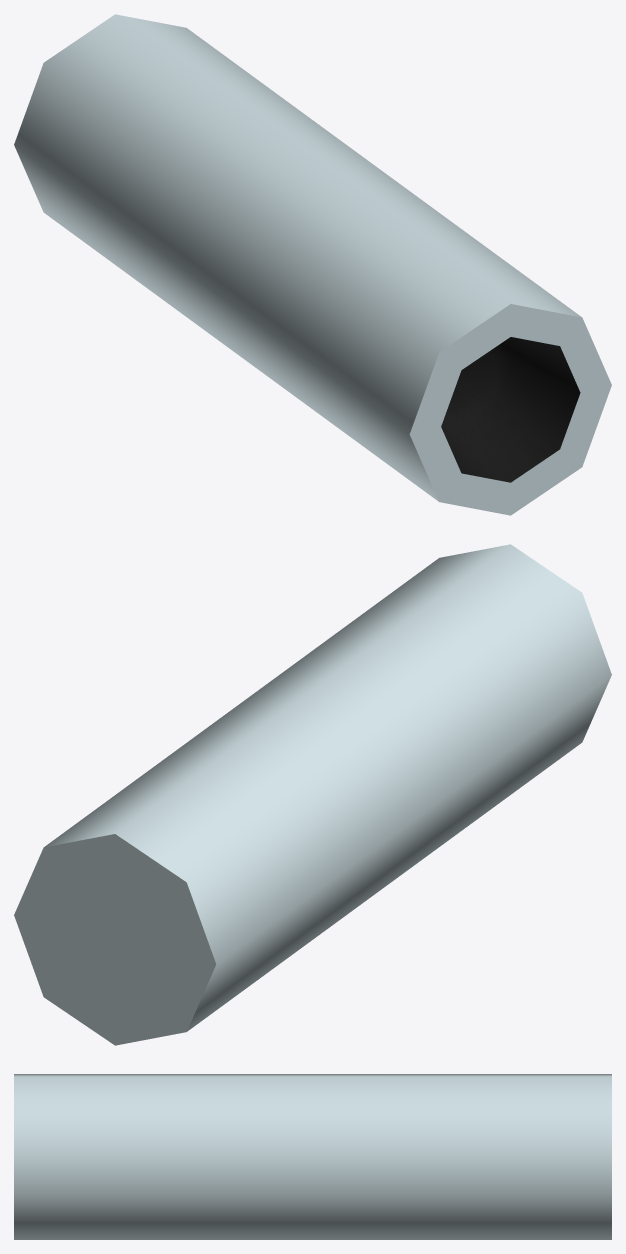
Rendered from YK_Rifle_Barrel.obj.
3 renders of one model, top to bottom at view 1: azimuth 30°, elevation 25°; view 2: azimuth 150°, elevation 25°; view 3: azimuth 270°, elevation 25°, orthographic. The views are drawn at different scales.
Visible parts, largest first — view 1: Cube.000_Cube.004; view 2: Cube.000_Cube.004; view 3: Cube.000_Cube.004.
Part boxes in pixels (x1,y1,x2,y2): Cube.000_Cube.004: (14,14,611,515); Cube.000_Cube.004: (14,544,611,1045); Cube.000_Cube.004: (14,1074,611,1239).
Bounding box in the file's own units: 0.1933 × 0.1933 × 0.6547.
